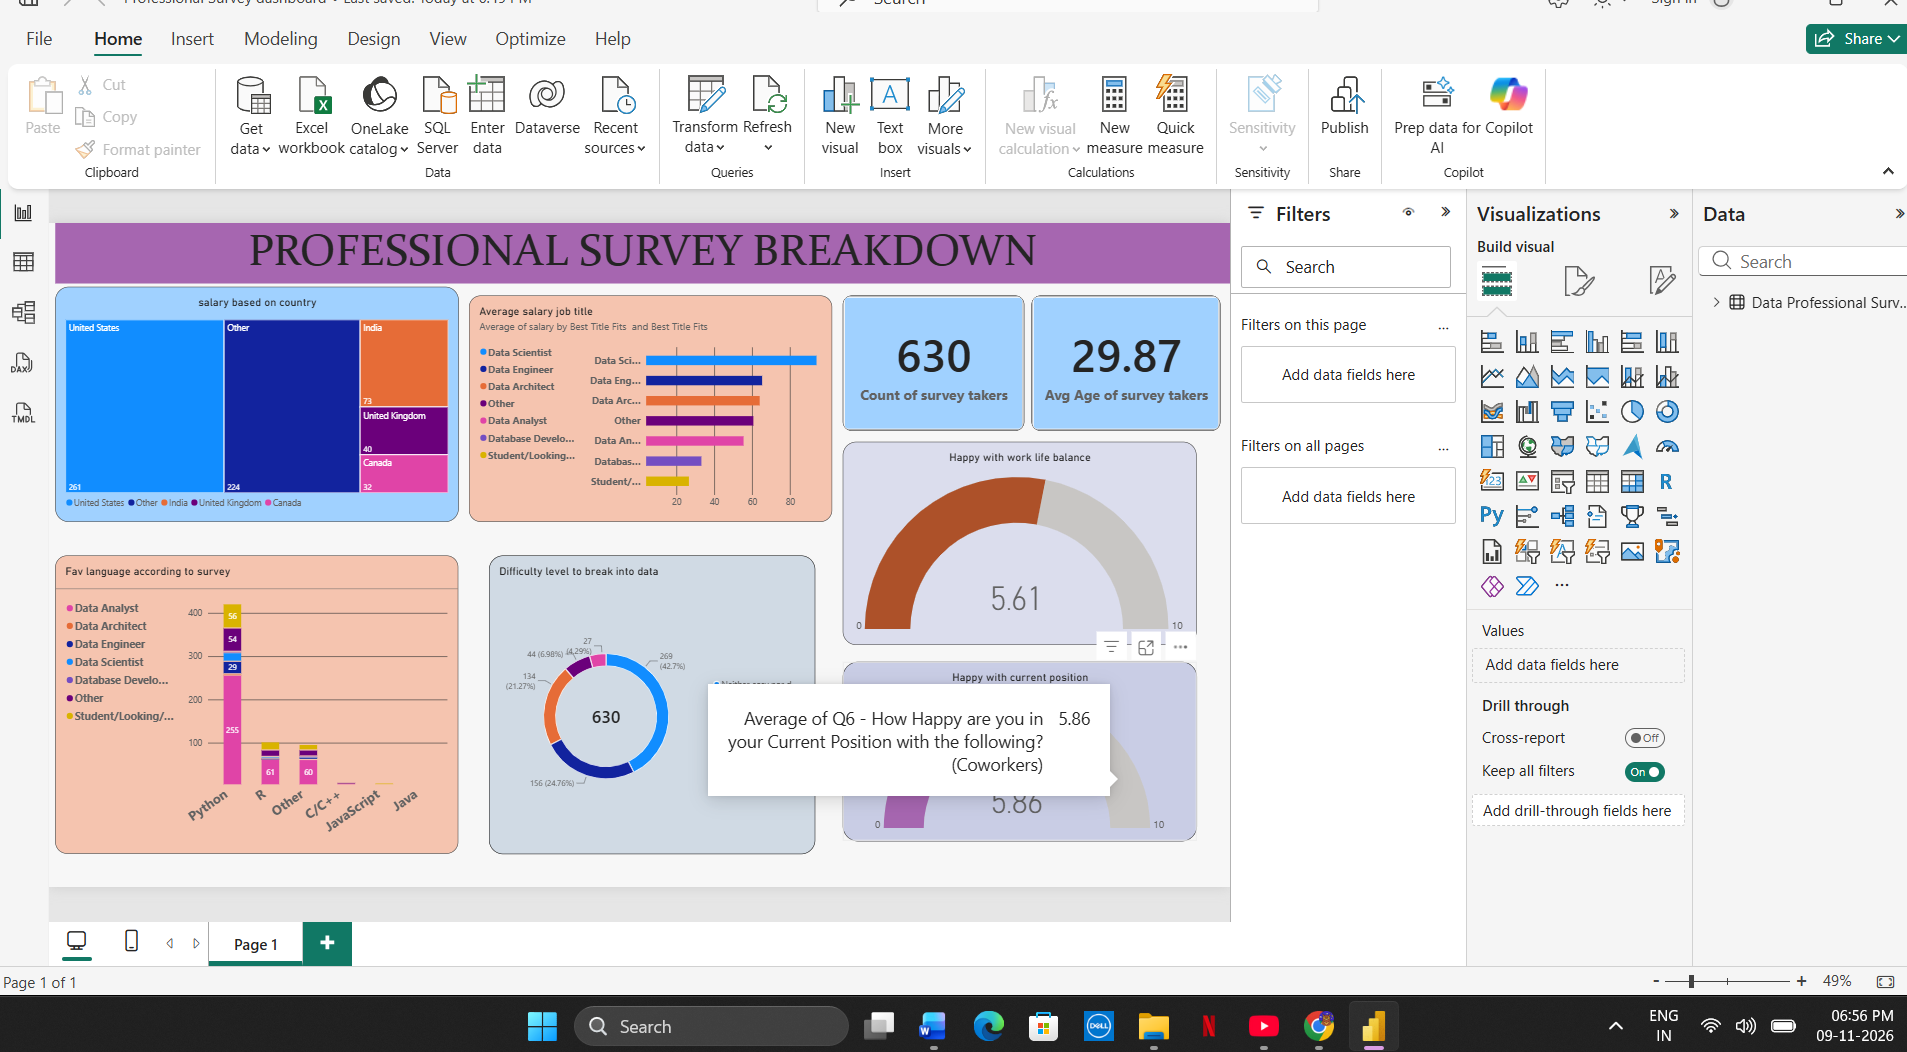

Layout of this report page (visuals, bound fields, positions):
{"tool":"powerbi","page":{"name":"Page 1","canvas":[1920,1080],"ordinal":0},"visuals":[{"type":"textbox","box":[10.3,0,1910.1,98.8],"z":0},{"type":"cardVisual","fields":{"Data":["Count(Data Professional Survey.Unique ID)"]},"box":[1290,117.5,295,220],"z":1000},{"type":"cardVisual","fields":{"Data":["Avg(Data Professional Survey.Q10 - Current Age)"]},"box":[1597.5,117.5,307.5,220],"z":2000},{"type":"barChart","title":"Average salary  job title ","fields":{"Category":["Data Professional Survey.Q1 - Which Title Best Fits your Current Role?.1"],"Series":["Data Professional Survey.Q1 - Which Title Best Fits your Current Role?.1"],"Y":["Avg(Data Professional Survey.Average Salary)"]},"box":[682,118,590,368],"z":3000},{"type":"columnChart","title":"Fav language according to survey","fields":{"Category":["Data Professional Survey.Q5 - Favorite Programming Language.1"],"Series":["Data Professional Survey.Q1 - Which Title Best Fits your Current Role?.1"],"Y":["CountNonNull(Data Professional Survey.Unique ID)"]},"box":[10,540,655,485],"z":4000},{"type":"treemap","title":"salary based on country ","fields":{"Group":["Data Professional Survey.Q11 - Which Country do you live in?.1"],"Values":["CountNonNull(Data Professional Survey.Q11 - Which Country do you live in?.1)"]},"box":[10,104,656,382],"z":5000},{"type":"gauge","title":"Happy with work life balance","fields":{"MaxValue":["Max(Data Professional Survey.Q6 - How Happy are you in your Current Position with the following? (Management))1"],"MinValue":["Min(Data Professional Survey.Q6 - How Happy are you in your Current Position with the following? (Management))"],"Y":["Avg(Data Professional Survey.Q6 - How Happy are you in your Current Position with the following? (Learning New Things))"]},"box":[1290,355,575,330],"z":6000},{"type":"gauge","title":"Happy with current position","fields":{"MaxValue":["Max(Data Professional Survey.Q6 - How Happy are you in your Current Position with the following? (Coworkers))2"],"MinValue":["Min(Data Professional Survey.Q6 - How Happy are you in your Current Position with the following? (Coworkers))1"],"Y":["Avg(Data Professional Survey.Q6 - How Happy are you in your Current Position with the following? (Coworkers))"]},"box":[1290,712.5,576,292],"z":7000},{"type":"donutChart","title":"Difficulty level to break into data","fields":{"Category":["Data Professional Survey.Q7 - How difficult was it for you to break into Data?"],"Y":["CountNonNull(Data Professional Survey.Q7 - How difficult was it for you to break into Data?)"]},"box":[715.3,540.6,530.4,485.7],"z":8000}]}

Visuals, with their boxes on the page's 1920x1080 design canvas (x1, y1, x2, y2). These are canvas units, not pixel positions in the 1907x1052 screenshot, which may show the page scaled, cropped or inside an application window:
textbox: bbox(10, 0, 1920, 99)
cardVisual - Count(Data Professional Survey.Unique ID): bbox(1290, 118, 1585, 338)
cardVisual - Avg(Data Professional Survey.Q10 - Current Age): bbox(1598, 118, 1905, 338)
"Average salary  job title " barChart: bbox(682, 118, 1272, 486)
"Fav language according to survey" columnChart: bbox(10, 540, 665, 1025)
"salary based on country " treemap: bbox(10, 104, 666, 486)
"Happy with work life balance" gauge: bbox(1290, 355, 1865, 685)
"Happy with current position" gauge: bbox(1290, 712, 1866, 1004)
"Difficulty level to break into data" donutChart: bbox(715, 541, 1246, 1026)
